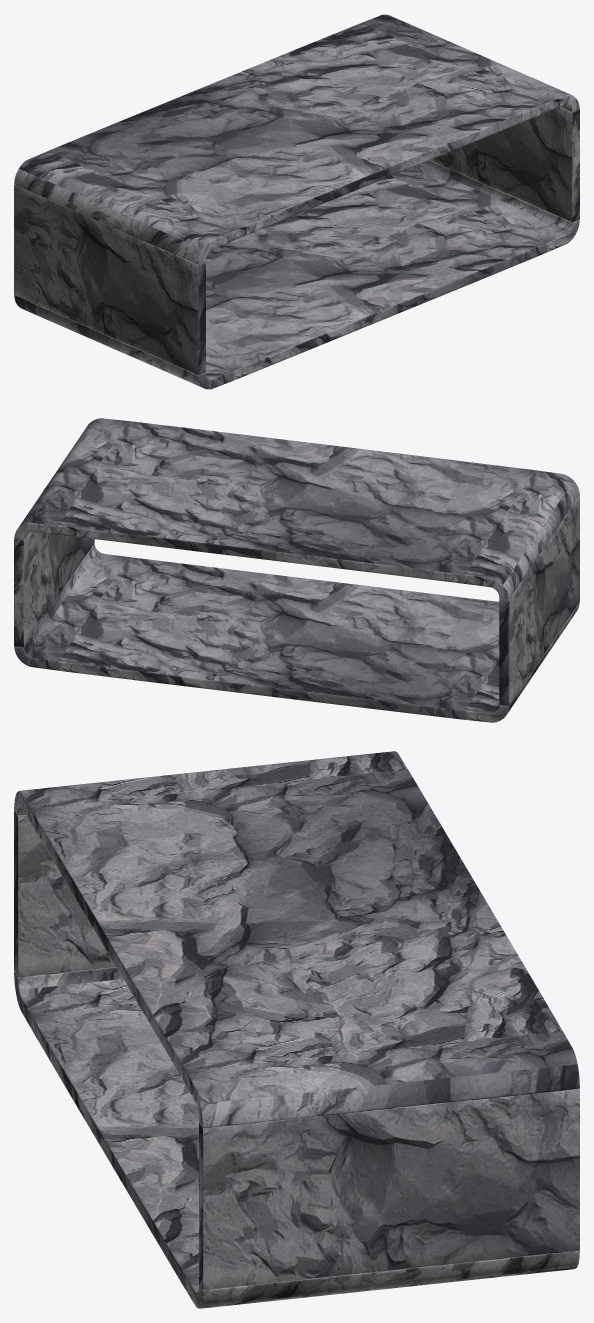
File: Mesa2.obj
The picture shows the model from 3 angles, top to bottom: view 1: azimuth 30°, elevation 25°; view 2: azimuth 150°, elevation 25°; view 3: azimuth 270°, elevation 25°; orthographic projection. The views are drawn at different scales.
Parts seen in each view (by area): view 1: Mesa1:Object001, Mesa1:Plane001; view 2: Mesa1:Object001, Mesa1:Plane001; view 3: Mesa1:Object001, Mesa1:Plane001.
Boxes of the visible parts, x1,y1,x2,y2 form: Mesa1:Object001: (14,14,579,389); Mesa1:Plane001: (14,107,579,374); Mesa1:Object001: (14,418,579,722); Mesa1:Plane001: (14,495,579,705); Mesa1:Object001: (14,751,579,1308); Mesa1:Plane001: (14,810,579,1289).
Size of the model in its own units: 1.33 by 0.4064 by 0.8859.
1 material, 1 textured.
